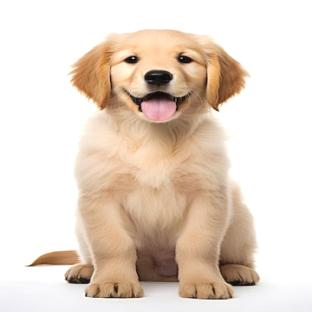Animal: (31, 29, 258, 299)
